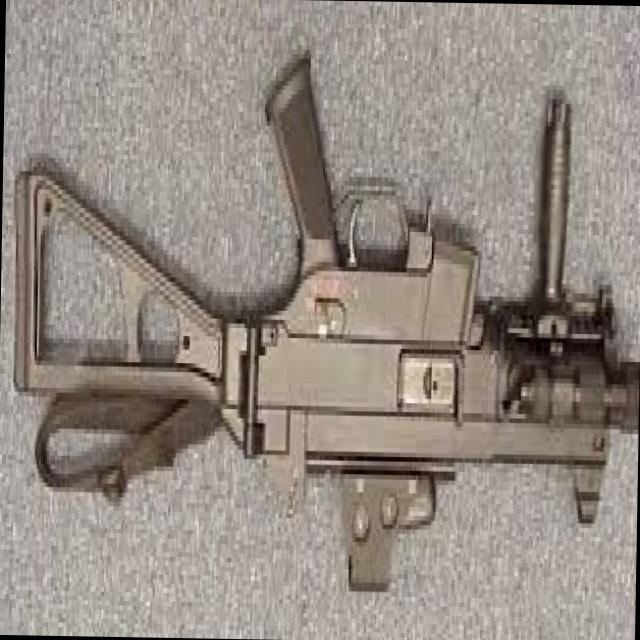Gun: (26, 72, 640, 556)
